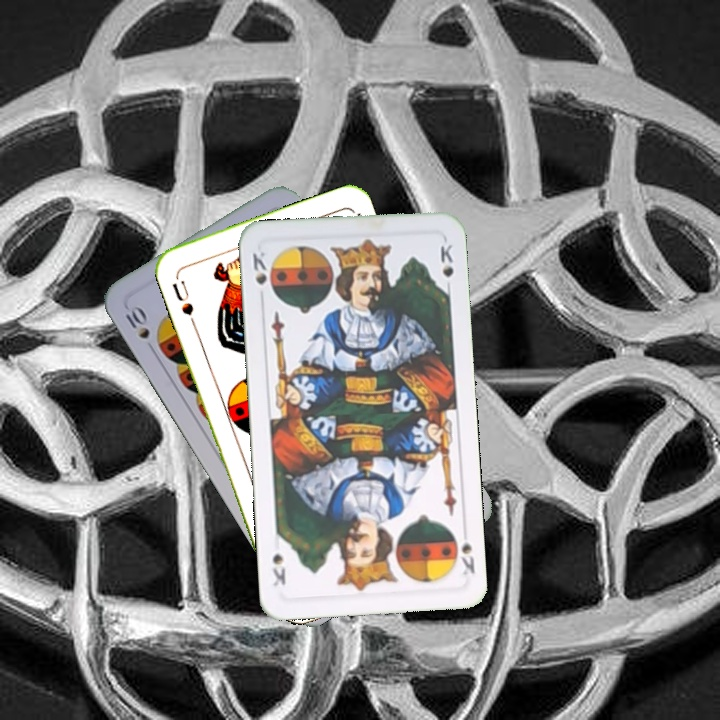S10: (121, 301, 159, 356)
SK: (448, 527, 478, 578), (248, 247, 269, 288)
SU: (168, 276, 196, 319)
